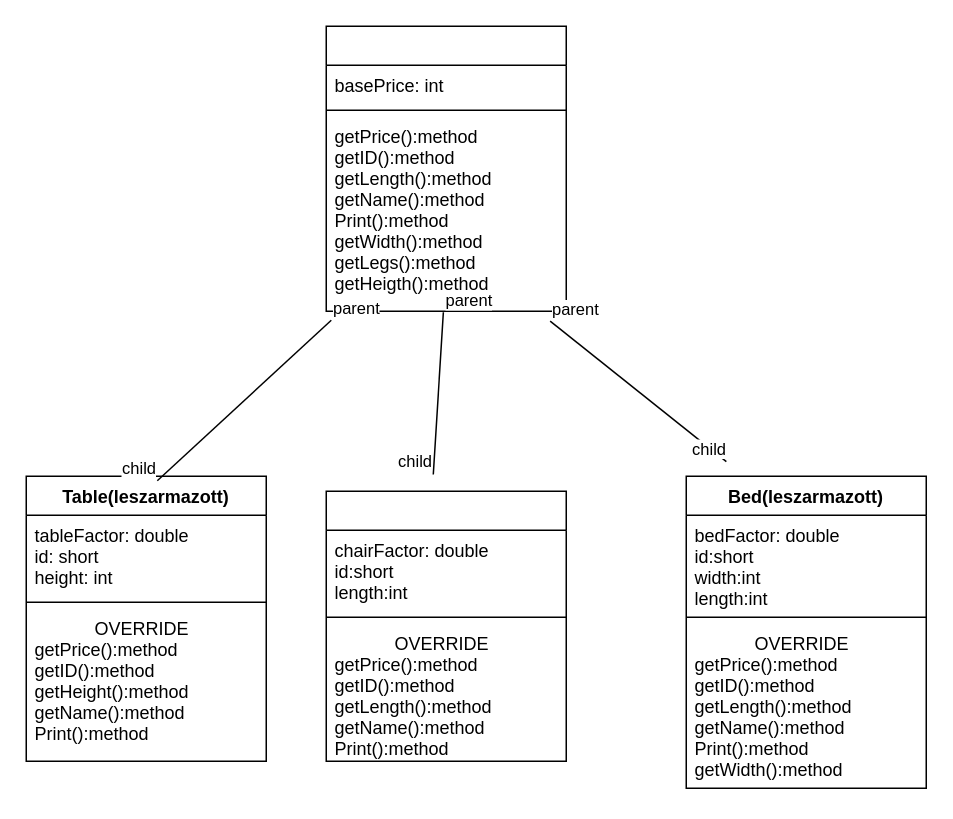
This 953x819 diagram has some shape labels left out. The box of each missing label's shape, as (x1, y1, x2, y2) in pixels:
Chair(leszarmazott): (325, 490, 566, 761)
Furniture(ős): (325, 25, 566, 311)
